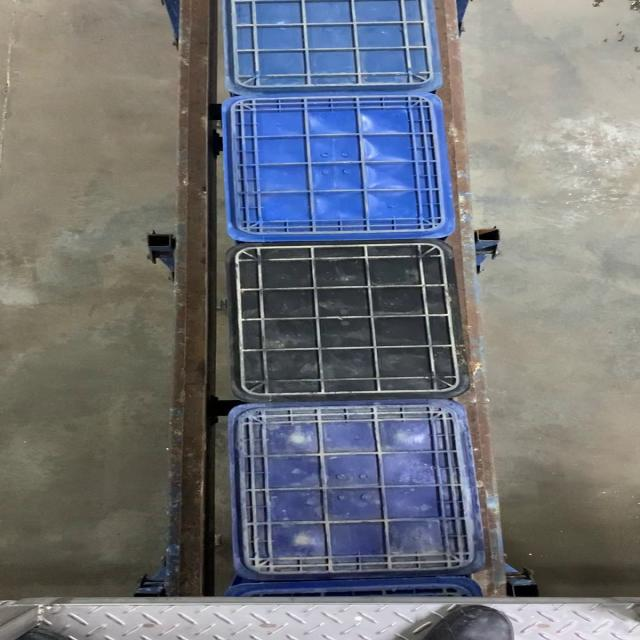Box: (223, 403, 488, 582), (224, 244, 474, 404), (219, 91, 453, 243)
